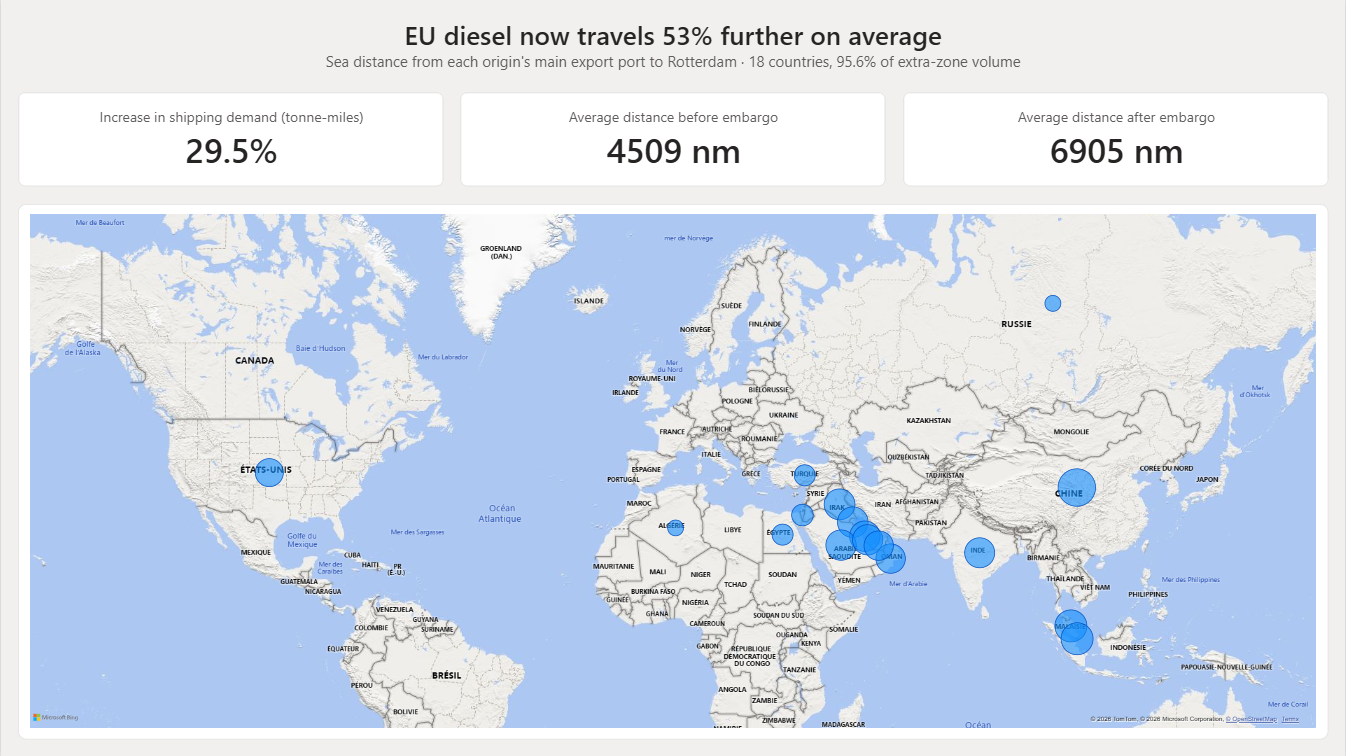

Layout of this report page (visuals, bound fields, positions):
{"tool":"powerbi","page":{"name":"Shipping Distance","canvas":[1920,1080],"ordinal":2},"visuals":[{"type":"map","title":"Diesel origins: distance to Rotterdam","fields":{"Category":["distances.partnerName"],"Size":["Sum(distances.nm_to_rotterdam)"]},"box":[24,291,1872,765],"z":0},{"type":"cardVisual","fields":{"Data":["tonne_miles.Tonne-NM Increase %"]},"box":[24,132,608,135],"z":1000},{"type":"cardVisual","fields":{"Data":["tonne_miles.Avg Distance Before"]},"box":[656,132,608,135],"z":2000},{"type":"cardVisual","fields":{"Data":["tonne_miles.Avg Distance After"]},"box":[1288,132,608,135],"z":3000},{"type":"textbox","box":[24,24,1872,84],"z":3001}]}

Visuals, with their boxes in screenshot pixels (x1, y1, x2, y2), scaled from the page's 1920x1080 canvas onto the 1346x756 screenshot:
"Diesel origins: distance to Rotterdam" map: box(17, 204, 1329, 739)
cardVisual - tonne_miles.Tonne-NM Increase %: box(17, 92, 443, 187)
cardVisual - tonne_miles.Avg Distance Before: box(460, 92, 886, 187)
cardVisual - tonne_miles.Avg Distance After: box(903, 92, 1329, 187)
textbox: box(17, 17, 1329, 76)
